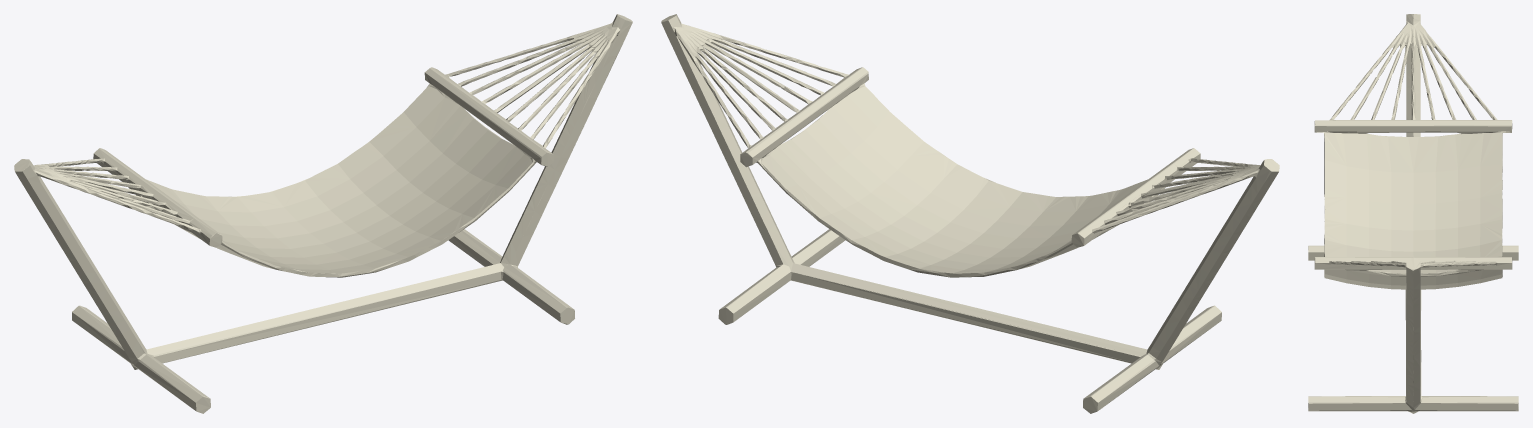
The model's file is NEW_RECOVERY_090_LOD2.glb.
3 views of the same model, side by side, from view 1: azimuth 30°, elevation 25°; view 2: azimuth 150°, elevation 25°; view 3: azimuth 270°, elevation 25° (orthographic). The views are drawn at different scales.
Parts seen in each view (by area): view 1: Hammock_complete; view 2: Hammock_complete; view 3: Hammock_complete.
Part boxes in pixels (x1,y1,x2,y2): Hammock_complete: (14,14,632,413); Hammock_complete: (661,14,1279,413); Hammock_complete: (1308,14,1518,413).
Size of the model in its own units: 3.73 by 1.37 by 1.3.
